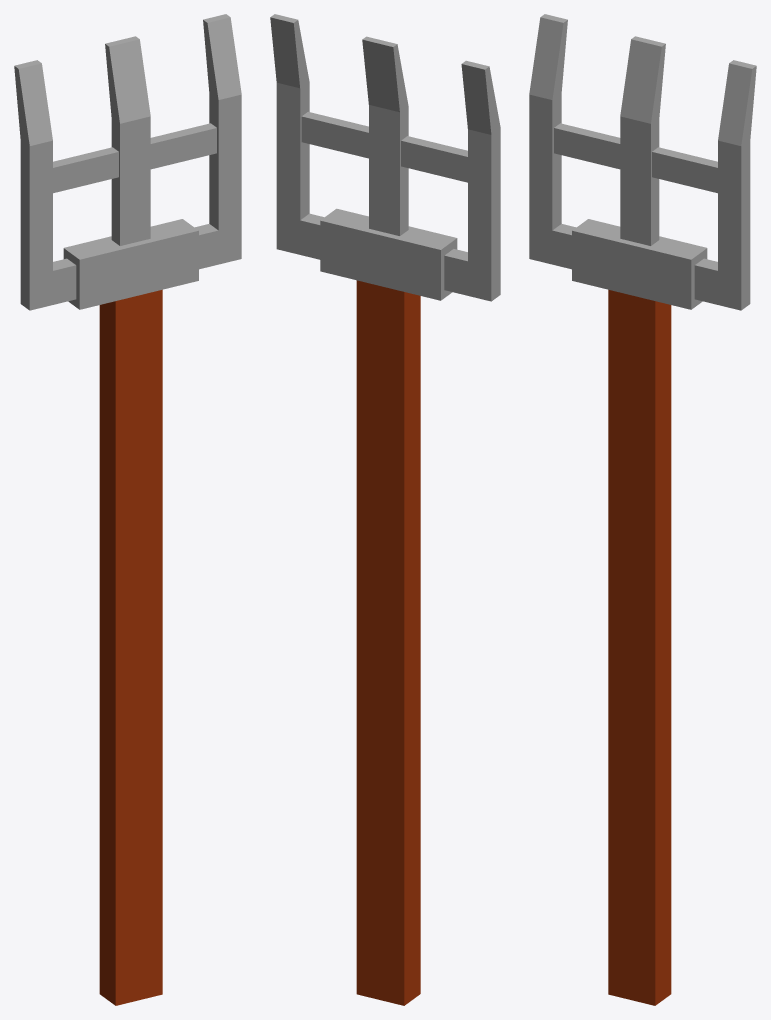
The picture shows the model from 3 angles, left to right: view 1: azimuth 30°, elevation 25°; view 2: azimuth 150°, elevation 25°; view 3: azimuth 330°, elevation 25°; orthographic projection.
Parts seen in each view (by area): view 1: object1; view 2: object1; view 3: object1.
Part boxes in pixels (x1,y1,x2,y2): object1: (14, 14, 241, 1005); object1: (270, 14, 500, 1005); object1: (529, 14, 756, 1005).
Bounding box in the file's own units: 43.89 × 187 × 6.84.
